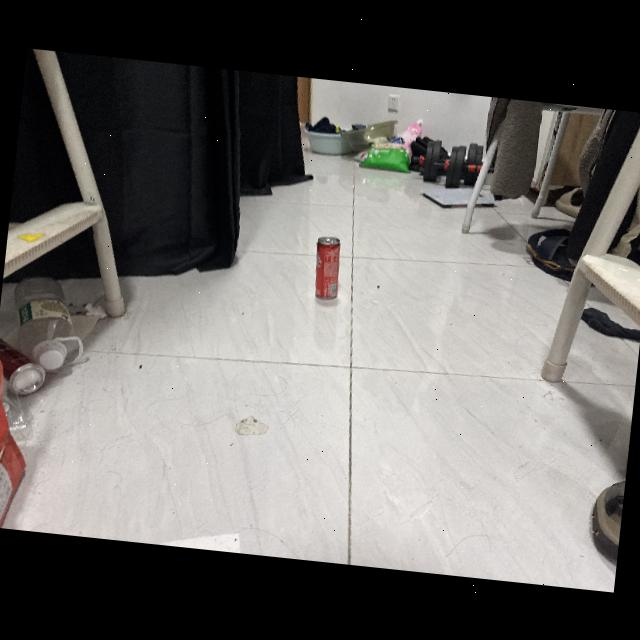Cola: (301, 232, 349, 314)
